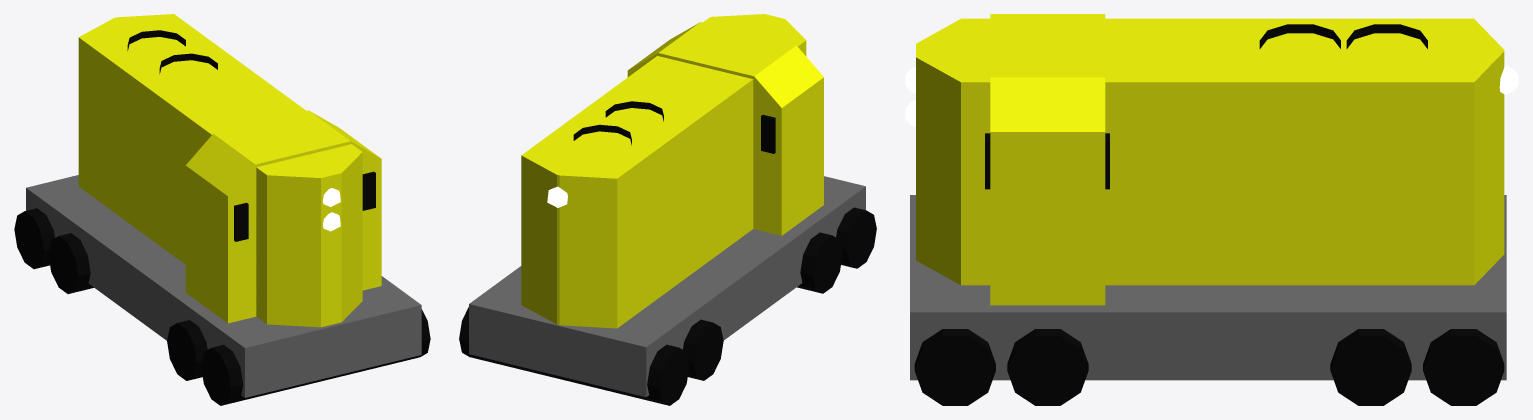
3 views of the same model, side by side, from view 1: azimuth 30°, elevation 25°; view 2: azimuth 150°, elevation 25°; view 3: azimuth 270°, elevation 25° (orthographic). The views are drawn at different scales.
Visible parts, largest first — view 1: Gp9; view 2: Gp9; view 3: Gp9.
Part boxes in pixels (x1,y1,x2,y2): Gp9: (14, 14, 430, 405); Gp9: (459, 14, 876, 405); Gp9: (905, 14, 1518, 405).
Bounding box in the file's own units: 2.26 × 2.38 × 4.42.
